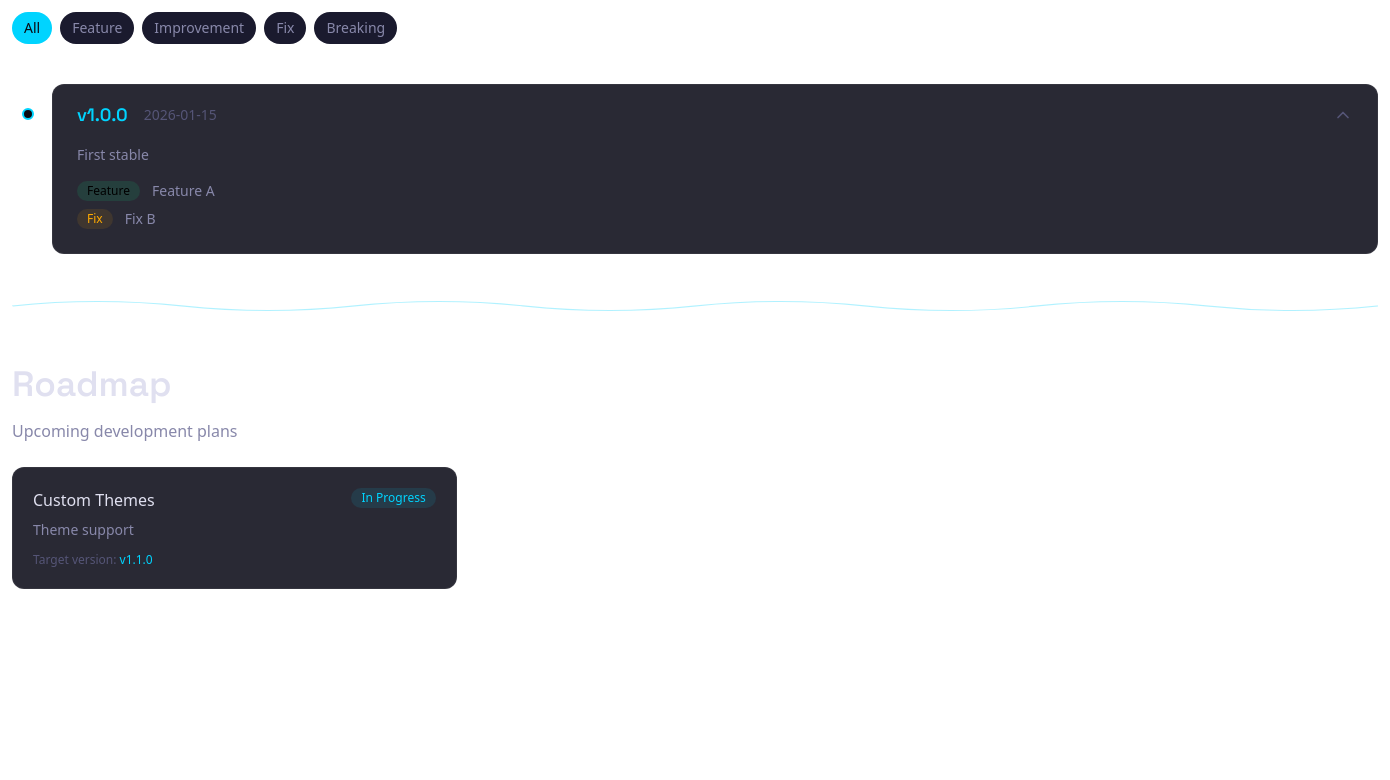
Test: ReleasesPageContent › filters changes when a filter button is clicked
This screenshot has width=1390, height=780.
Expected: the text "Feature A" is shown, x1=152 y1=181 x2=215 y2=201
Expected: the text "Fix B" is shown, x1=125 y1=209 x2=156 y2=229
// Click "Feature" filter button (use role to distinguish from badge)
Click the button "Feature". click: point(97, 28)
box: x1=60 y1=12 x2=134 y2=44
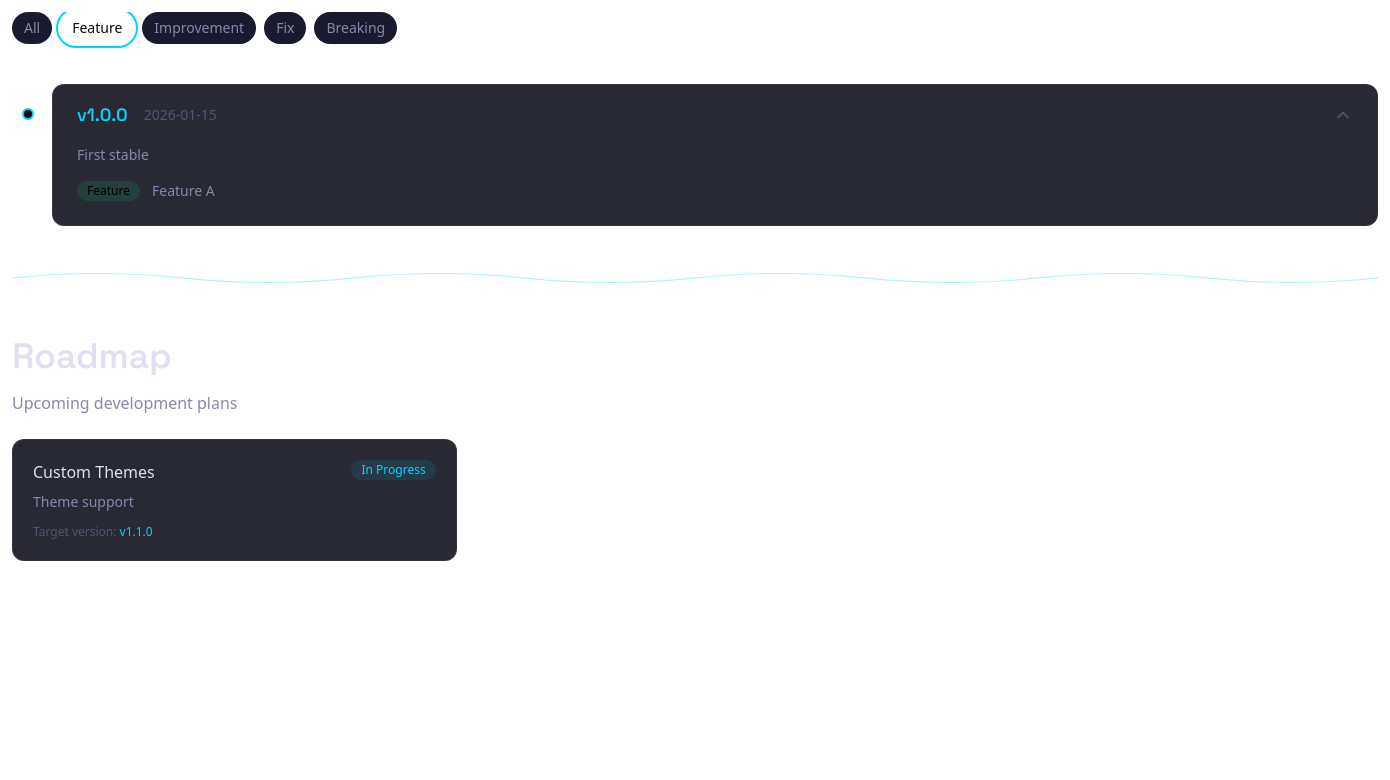
Expected: the text "Feature A" is shown, x1=152 y1=181 x2=215 y2=201
// Click "All" to reset
Click the button "All". click: point(32, 28)
box: x1=12 y1=12 x2=52 y2=44
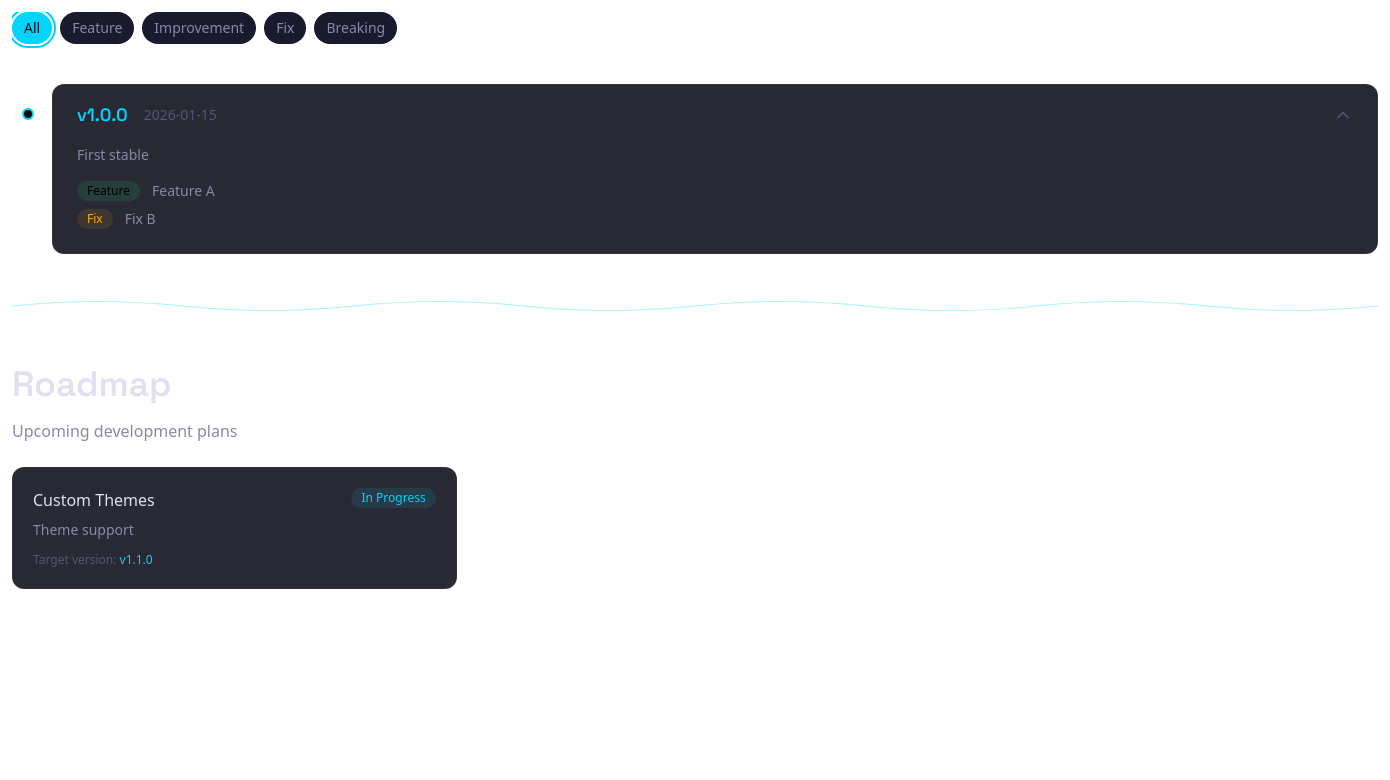
Expected: the text "Feature A" is shown, x1=152 y1=181 x2=215 y2=201
Expected: the text "Fix B" is shown, x1=125 y1=209 x2=156 y2=229
